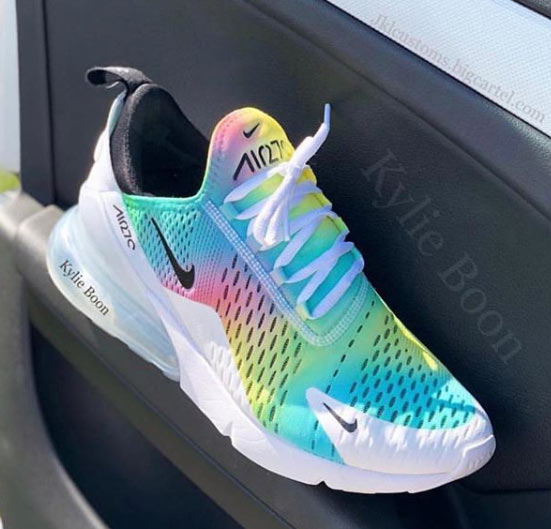nike: (151, 216, 197, 292)
